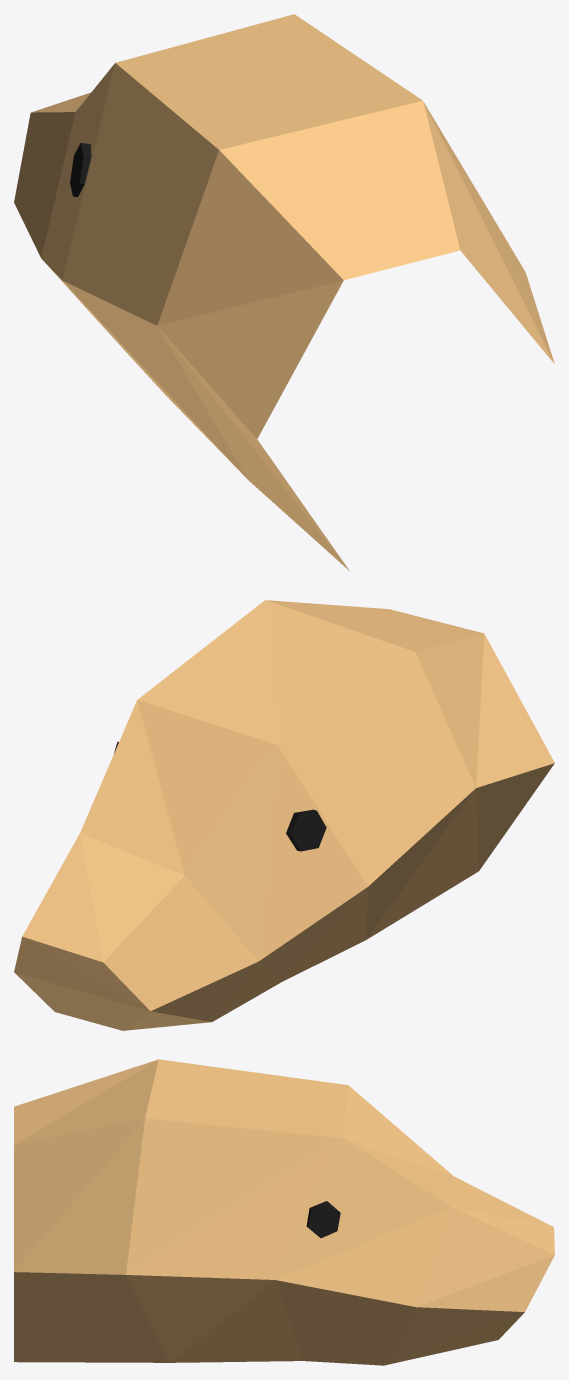
File: Head.glb
3 renders of one model, top to bottom at view 1: azimuth 30°, elevation 25°; view 2: azimuth 150°, elevation 25°; view 3: azimuth 270°, elevation 25°, orthographic. The views are drawn at different scales.
Visible parts, largest first — view 1: Head; view 2: Head; view 3: Head.
Boxes of the visible parts, <box> form: Head: <box>14,14,554,570</box>; Head: <box>14,600,554,1030</box>; Head: <box>14,1059,554,1365</box>.
Size of the model in its own units: 0.1535 by 0.1472 by 0.288.
